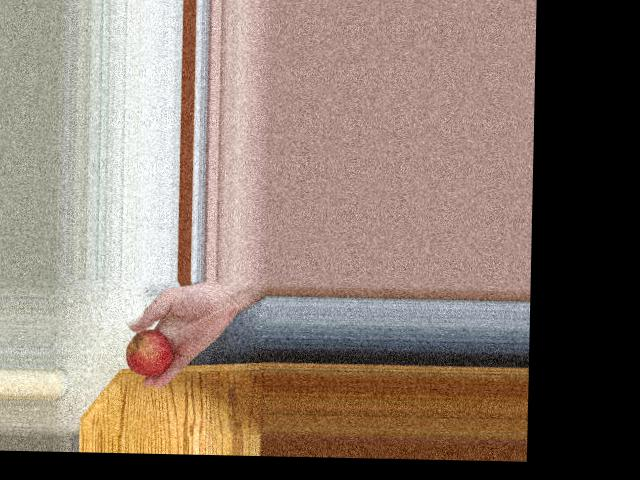apple: (125, 326, 176, 375)
